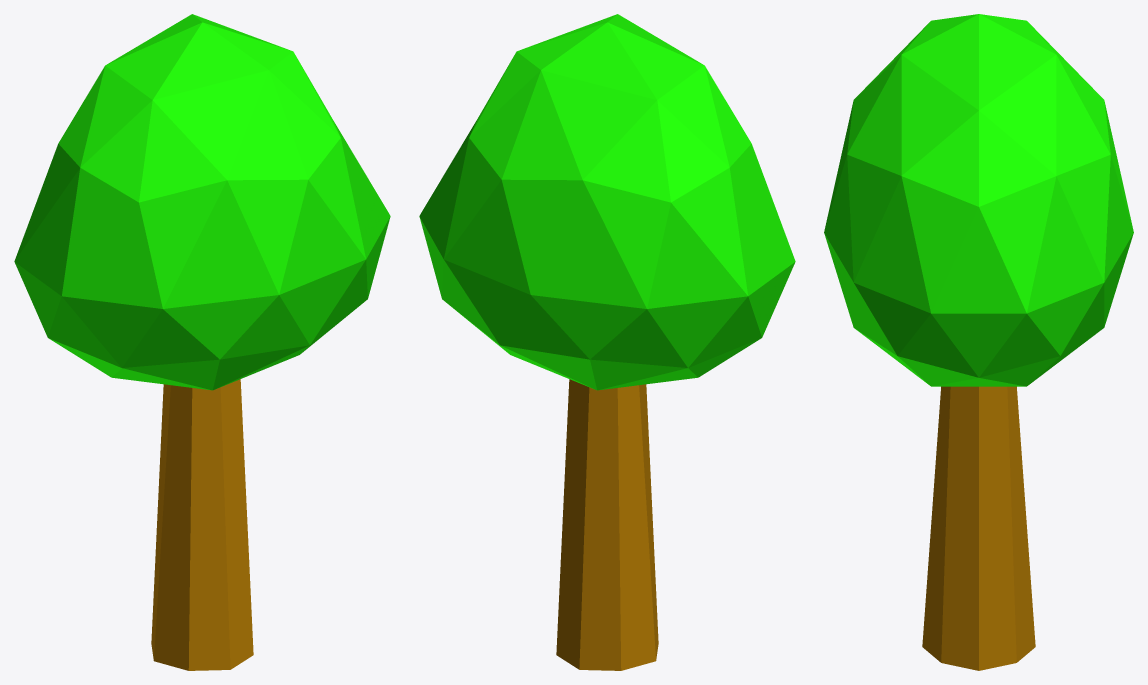
The model's file is Tree_2.fbx.
3 renders of one model, left to right at view 1: azimuth 30°, elevation 25°; view 2: azimuth 150°, elevation 25°; view 3: azimuth 270°, elevation 25°, orthographic.
Visible parts, largest first — view 1: Leaf, Trunk; view 2: Leaf, Trunk; view 3: Leaf, Trunk.
Boxes of the visible parts, bbox=[...] form: Leaf: bbox=[14, 14, 390, 390]; Trunk: bbox=[151, 379, 253, 670]; Leaf: bbox=[419, 14, 795, 390]; Trunk: bbox=[556, 379, 658, 670]; Leaf: bbox=[824, 14, 1133, 386]; Trunk: bbox=[922, 386, 1035, 670].
Size of the model in its own units: 95.11 by 173 by 76.87.
